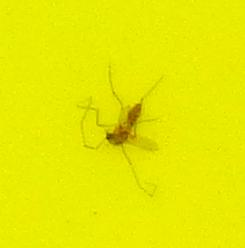Nematocera: (100, 100, 145, 148)
